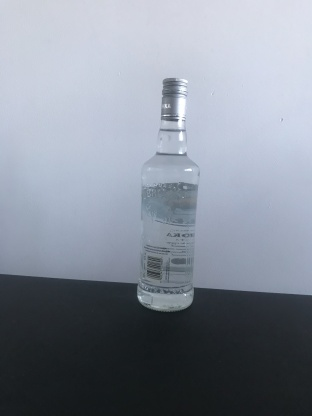nakretka: (159, 76, 189, 121)
